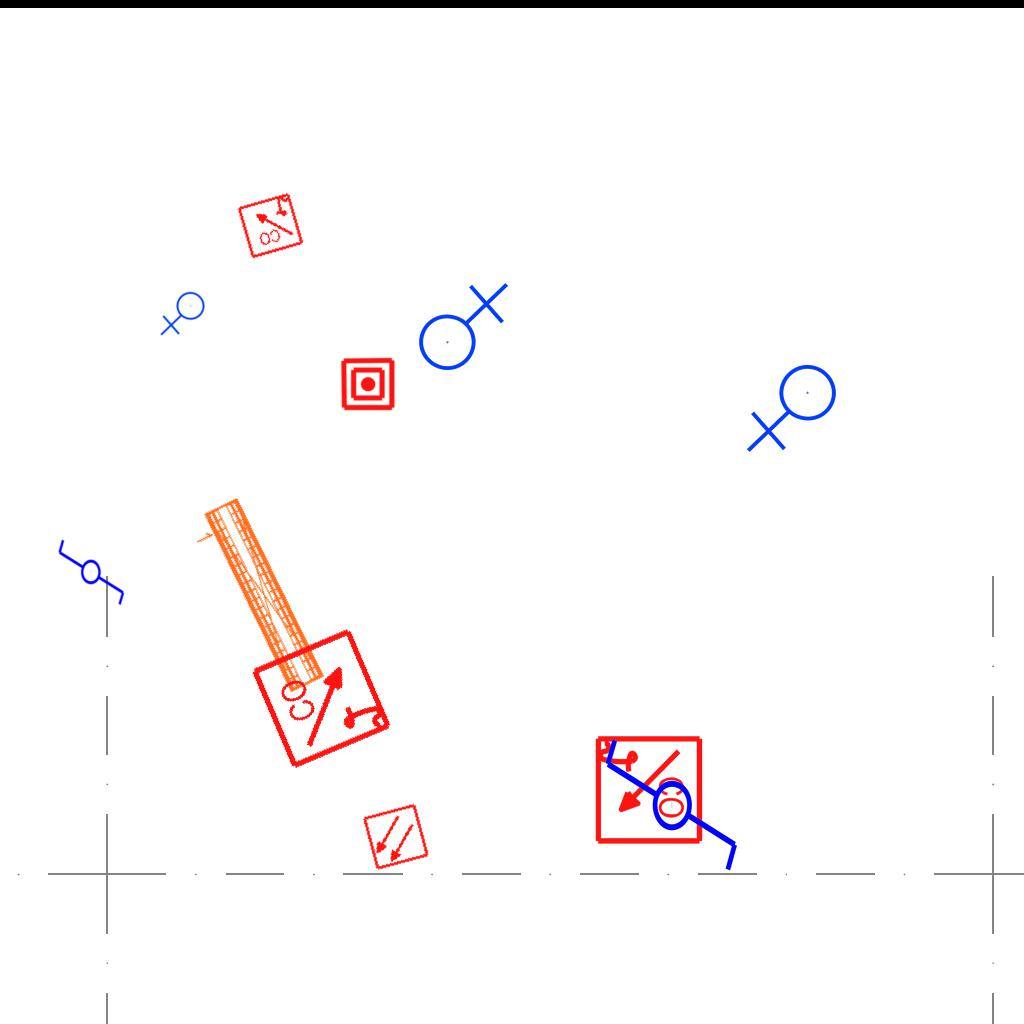Buero_Pendelleuchten_LED: (181, 492, 331, 707)
Elektroanschluss_allgemein_230V_Geraeteanschlussdose_230V: (746, 363, 845, 457), (410, 278, 509, 372), (160, 291, 209, 338)
NAM-Nichtautomatischer_Melder: (340, 356, 396, 412)
RMO_Rauchmelder_optischer: (361, 802, 431, 872)
ROA_Rauchmelder_optisch_mit_Signalgeber_(Sockelsirene): (248, 623, 397, 772), (591, 734, 704, 847), (235, 190, 305, 260)
Wechselschalter: (598, 735, 742, 892), (56, 529, 128, 607)
